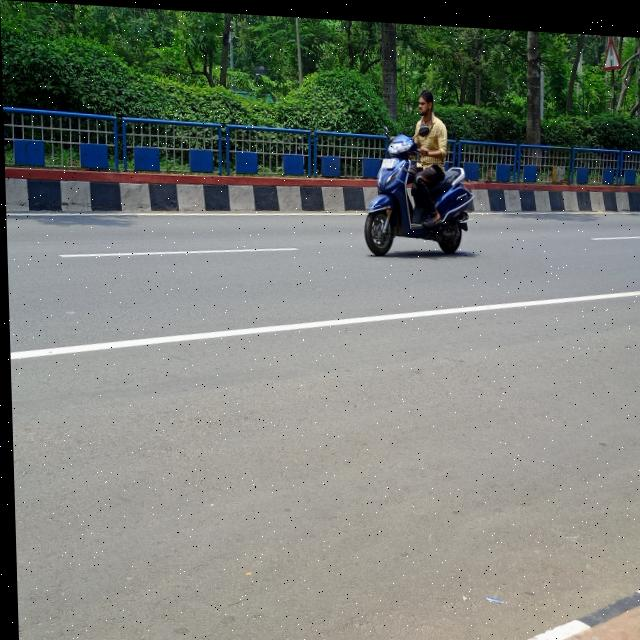bike: (361, 125, 470, 256)
